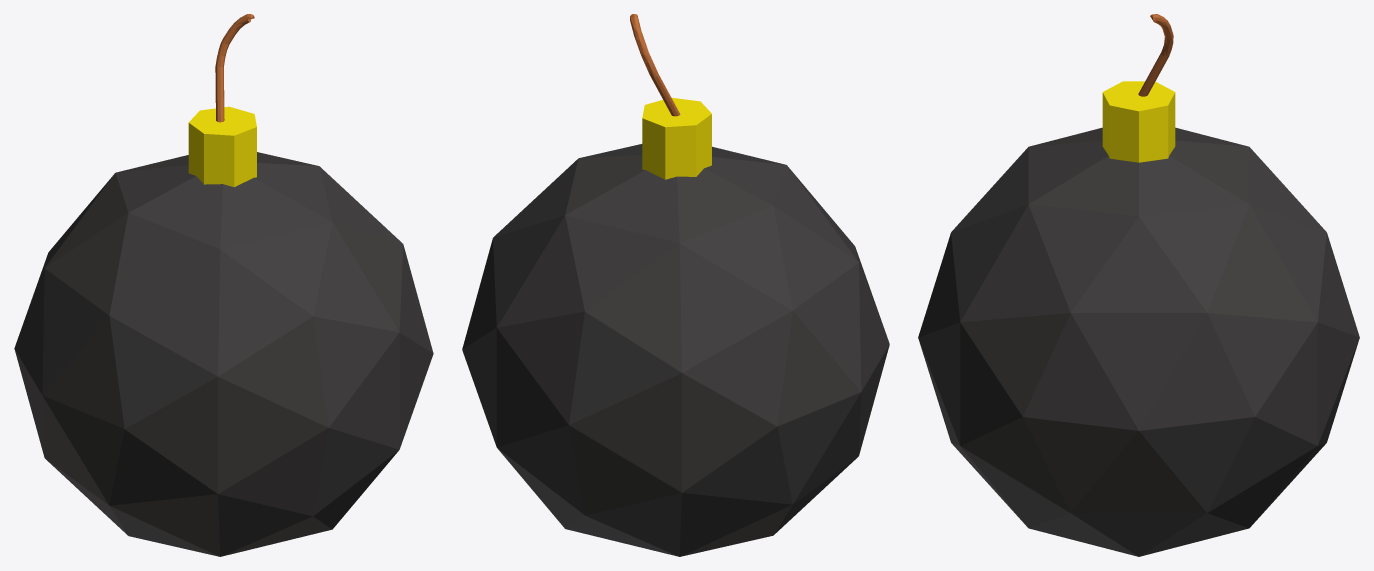
File: BOMB.fbx
3 views of the same model, side by side, from view 1: azimuth 30°, elevation 25°; view 2: azimuth 150°, elevation 25°; view 3: azimuth 270°, elevation 25° (orthographic). The views are drawn at different scales.
Visible parts, largest first — view 1: Sphere, Cylinder, Sweep; view 2: Sphere, Cylinder, Sweep; view 3: Sphere, Cylinder, Sweep.
Part boxes in pixels (x1,y1,x2,y2): Sphere: (14, 152, 433, 556); Cylinder: (188, 106, 256, 187); Sweep: (215, 14, 254, 122); Sphere: (462, 144, 889, 556); Cylinder: (642, 97, 711, 179); Sweep: (630, 14, 680, 116); Sphere: (918, 127, 1359, 556); Cylinder: (1102, 81, 1175, 162); Sweep: (1138, 14, 1173, 96).
Size of the model in its own units: 200 by 270 by 200.
